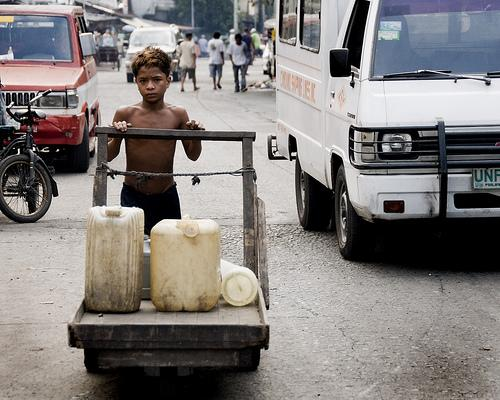person: (100, 46, 205, 237)
